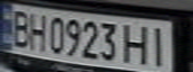0: (45, 13, 66, 55)
2: (78, 17, 100, 61)
3: (96, 19, 124, 63)
9: (63, 16, 84, 57)
B: (6, 7, 33, 48)
H: (121, 21, 154, 65), (24, 10, 48, 52)
I: (145, 24, 172, 66)
